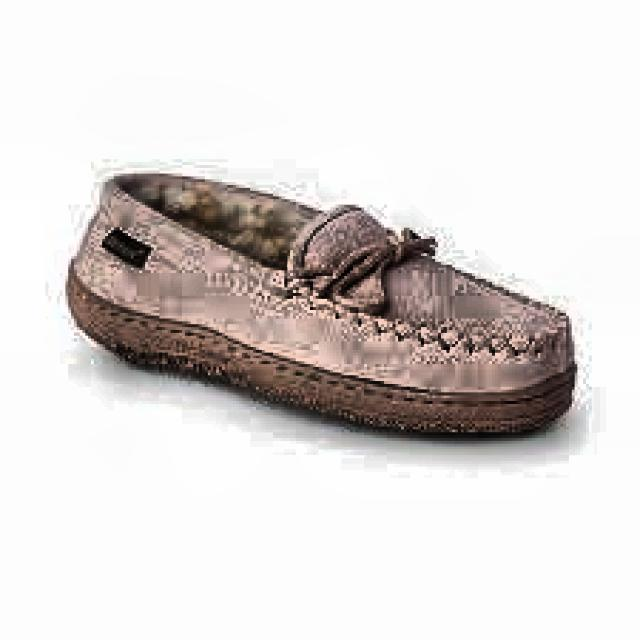shoes: (61, 153, 580, 442)
